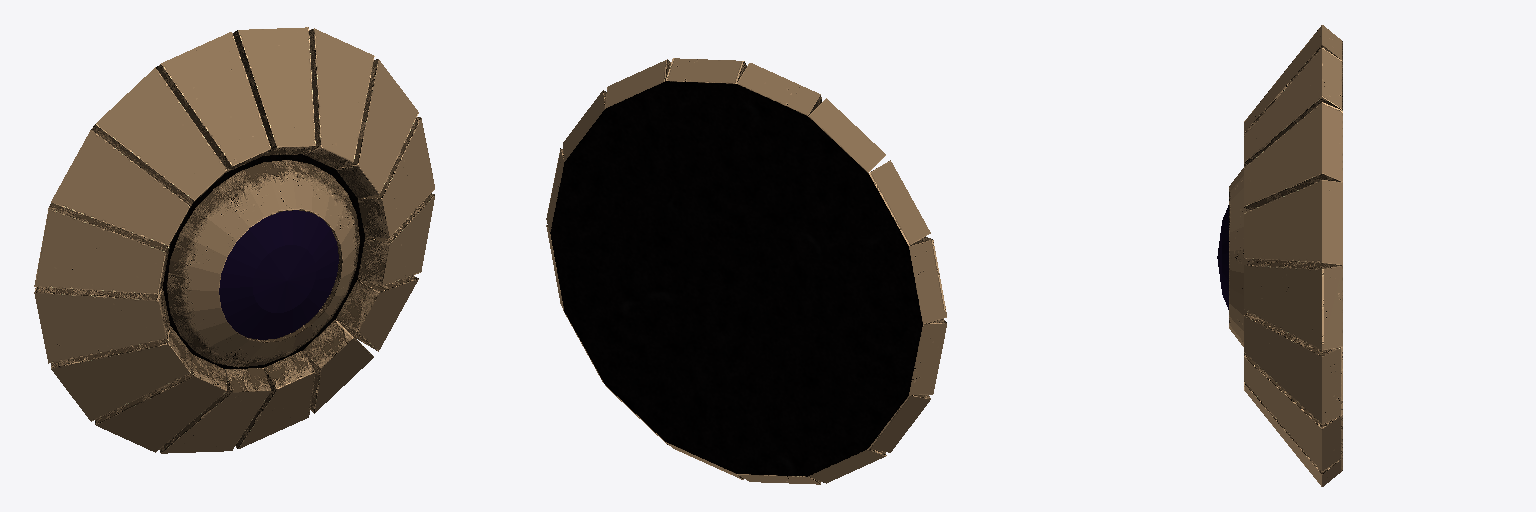
3 renders of one model, left to right at view 1: azimuth 30°, elevation 25°; view 2: azimuth 150°, elevation 25°; view 3: azimuth 270°, elevation 25°, orthographic.
Visible parts, largest first — view 1: Cone001; view 2: Cone001; view 3: Cone001.
Boxes of the visible parts, <box> form: Cone001: <box>34,27,434,453</box>; Cone001: <box>546,58,946,484</box>; Cone001: <box>1217,25,1342,486</box>.
Bounding box in the file's own units: 2.17 × 2.17 × 0.5876.
Materials: 1 (1 with a texture image).